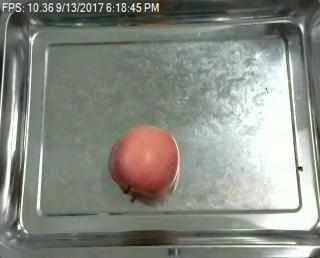apple: (108, 124, 178, 200)
